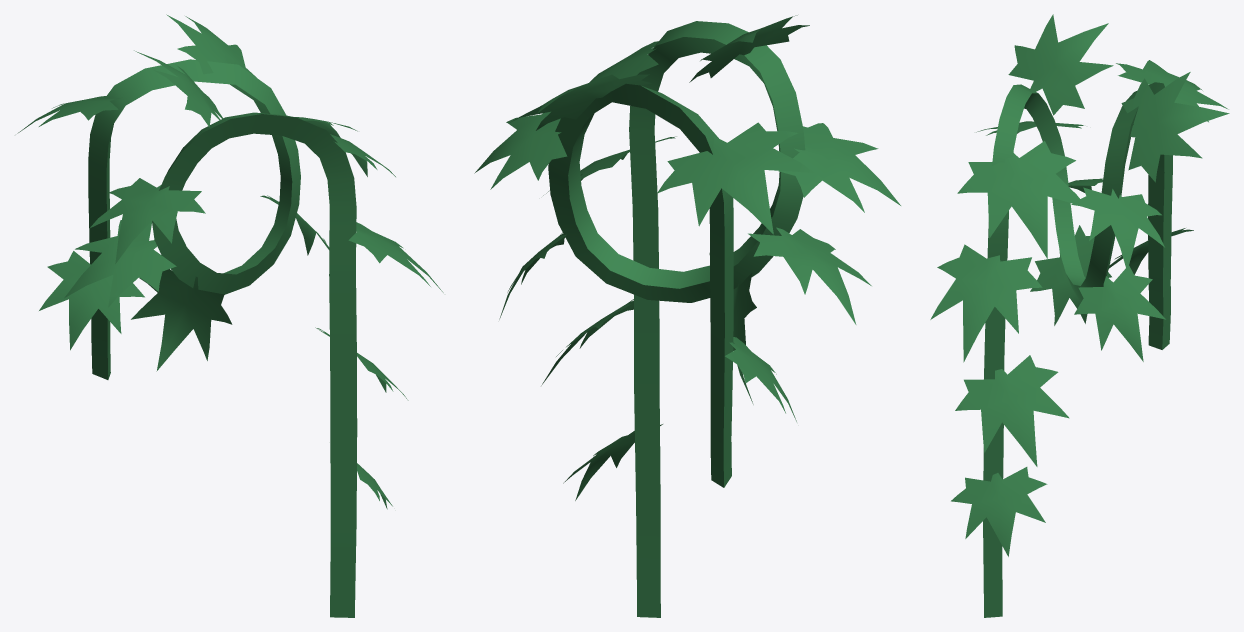
The model's file is vine_P_alangium.fbx.
The picture shows the model from 3 angles, left to right: view 1: azimuth 30°, elevation 25°; view 2: azimuth 150°, elevation 25°; view 3: azimuth 270°, elevation 25°; orthographic projection. The views are drawn at different scales.
Parts seen in each view (by area): view 1: vine_P_alangium_root, vine_P_alangium_A_leaf_B100, vine_P_alangium_A_leaf_B104, vine_P_alangium_A_leaf_B, vine_P_alangium_A_leaf_B108, vine_P_alangium_A_leaf_B106, vine_P_alangium_A_leaf_B111, vine_P_alangium_A_leaf_B109, vine_P_alangium_A_leaf_B101, vine_P_alangium_A_leaf_B103; view 2: vine_P_alangium_root, vine_P_alangium_A_leaf_B101, vine_P_alangium_A_leaf_B104, vine_P_alangium_A_leaf_B, vine_P_alangium_A_leaf_B99, vine_P_alangium_A_leaf_B106, vine_P_alangium_A_leaf_B109, vine_P_alangium_A_leaf_B108, vine_P_alangium_A_leaf_B98, vine_P_alangium_A_leaf_B100, vine_P_alangium_A_leaf_B103, vine_P_alangium_A_leaf_B107 (+1 smaller); view 3: vine_P_alangium_root, vine_P_alangium_A_leaf_B103, vine_P_alangium_A_leaf_B111, vine_P_alangium_A_leaf_B107, vine_P_alangium_A_leaf_B106, vine_P_alangium_A_leaf_B109, vine_P_alangium_A_leaf_B98, vine_P_alangium_A_leaf_B110, vine_P_alangium_A_leaf_B99, vine_P_alangium_A_leaf_B100, vine_P_alangium_A_leaf_B101, vine_P_alangium_A_leaf_B108.
Boxes of the visible parts, x1,y1,x2,y2 form: vine_P_alangium_root: (88, 59, 357, 617); vine_P_alangium_A_leaf_B100: (131, 269, 232, 371); vine_P_alangium_A_leaf_B104: (89, 178, 205, 263); vine_P_alangium_A_leaf_B: (64, 220, 176, 307); vine_P_alangium_A_leaf_B108: (39, 251, 144, 350); vine_P_alangium_A_leaf_B106: (166, 14, 256, 77); vine_P_alangium_A_leaf_B111: (348, 222, 443, 292); vine_P_alangium_A_leaf_B109: (134, 50, 222, 127); vine_P_alangium_A_leaf_B101: (17, 96, 122, 133); vine_P_alangium_A_leaf_B103: (330, 134, 395, 176); vine_P_alangium_root: (548, 21, 805, 617); vine_P_alangium_A_leaf_B101: (657, 122, 815, 234); vine_P_alangium_A_leaf_B104: (778, 123, 900, 212); vine_P_alangium_A_leaf_B: (748, 227, 871, 324); vine_P_alangium_A_leaf_B99: (474, 111, 567, 189); vine_P_alangium_A_leaf_B106: (510, 74, 651, 130); vine_P_alangium_A_leaf_B109: (689, 15, 809, 82); vine_P_alangium_A_leaf_B108: (725, 337, 796, 421); vine_P_alangium_A_leaf_B98: (563, 424, 662, 500); vine_P_alangium_A_leaf_B100: (733, 273, 756, 404); vine_P_alangium_A_leaf_B103: (589, 41, 658, 82); vine_P_alangium_A_leaf_B107: (541, 299, 633, 385); vine_P_alangium_root: (983, 82, 1172, 617); vine_P_alangium_A_leaf_B103: (957, 141, 1079, 258); vine_P_alangium_A_leaf_B111: (930, 244, 1042, 362); vine_P_alangium_A_leaf_B107: (955, 355, 1069, 466); vine_P_alangium_A_leaf_B106: (1121, 72, 1229, 182); vine_P_alangium_A_leaf_B109: (1008, 14, 1113, 115); vine_P_alangium_A_leaf_B98: (951, 467, 1047, 556); vine_P_alangium_A_leaf_B110: (1074, 265, 1165, 361); vine_P_alangium_A_leaf_B99: (1071, 187, 1164, 271); vine_P_alangium_A_leaf_B100: (1030, 225, 1111, 325); vine_P_alangium_A_leaf_B101: (1116, 60, 1228, 122); vine_P_alangium_A_leaf_B108: (1109, 228, 1193, 274).
Bounding box in the file's own units: 65.51 × 112 × 57.74.
